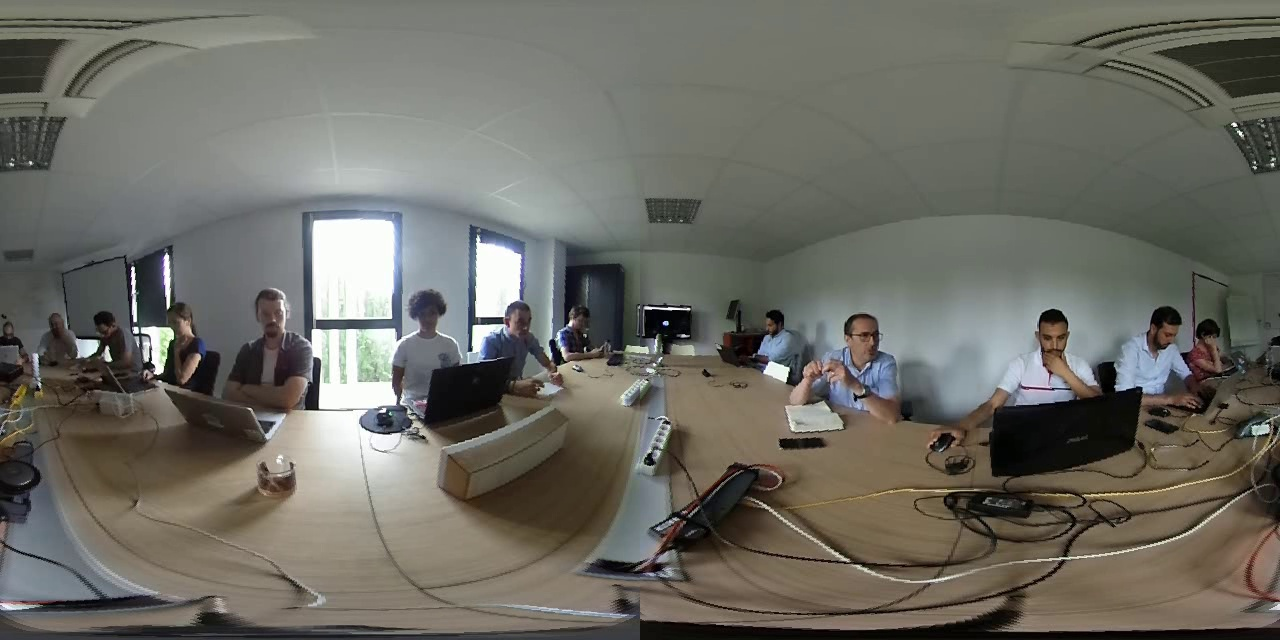person: (805, 294, 916, 420), (998, 299, 1103, 420), (226, 279, 316, 411), (1115, 295, 1187, 410), (388, 282, 459, 385), (479, 286, 548, 386), (152, 296, 217, 389), (554, 282, 621, 371), (83, 304, 147, 378), (1190, 300, 1239, 390), (750, 304, 803, 370), (32, 303, 85, 360), (1, 315, 26, 351)
